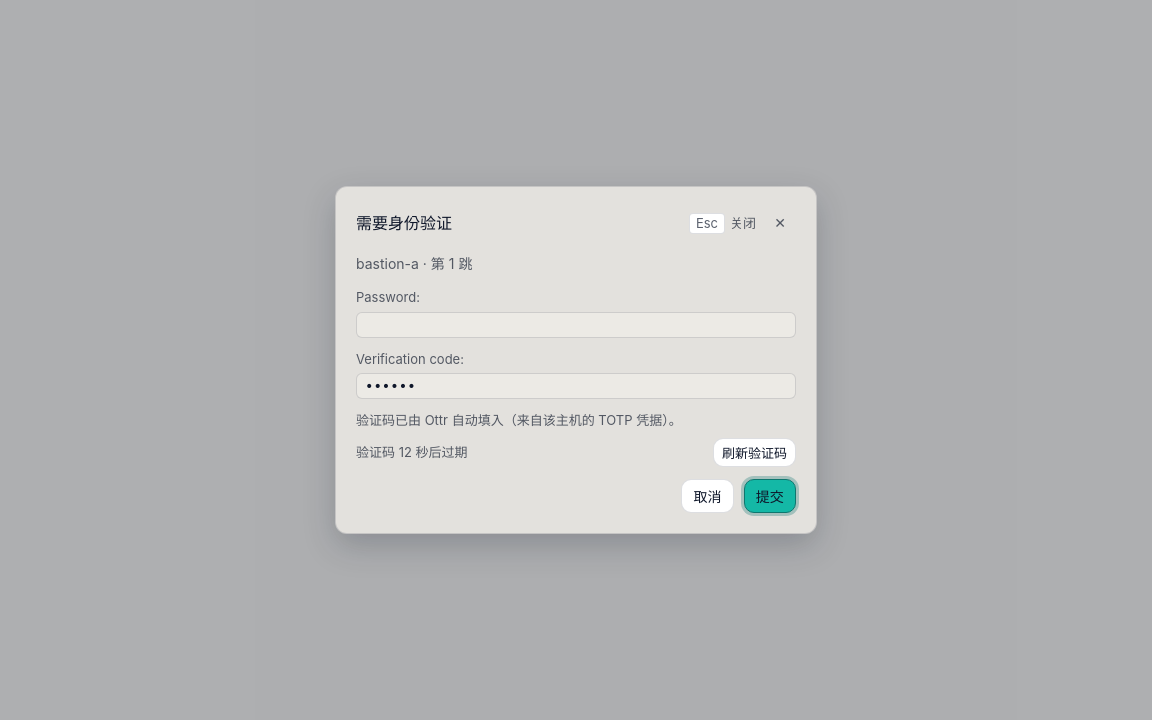
Test: 换码播报 › 码刷新后出现 role=status 的提示
// 点「刷新验证码」触发换码（自动换码要等窗口过期，用按钮更确定）
Click the button with test id "prompt-code-refresh" at (754, 453), box [713,438,796,467]
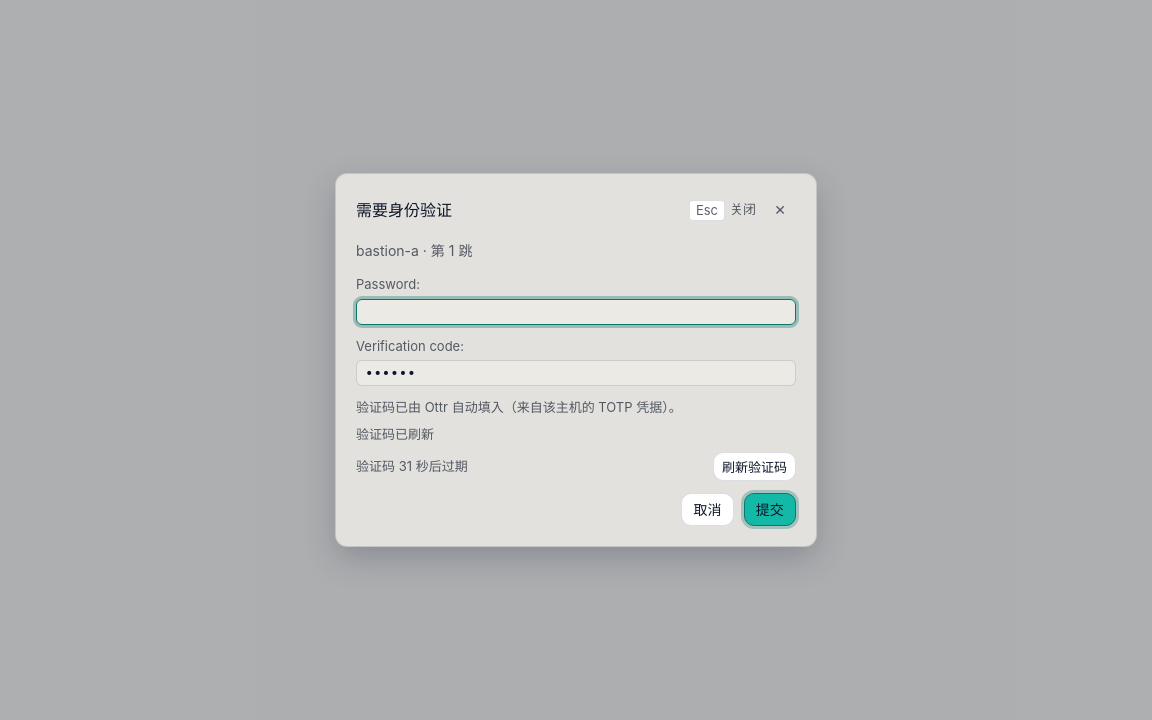
Expected: the element with test id "prompt-code-refreshed" does not show ""
Result: the message "验证码已刷新" is shown at [356,426,434,442]
